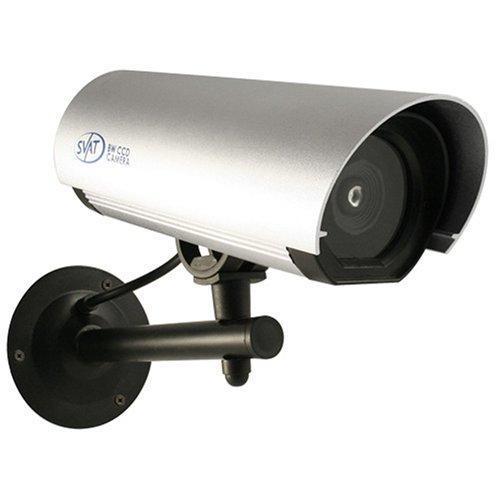CCTV: (7, 71, 487, 429)
